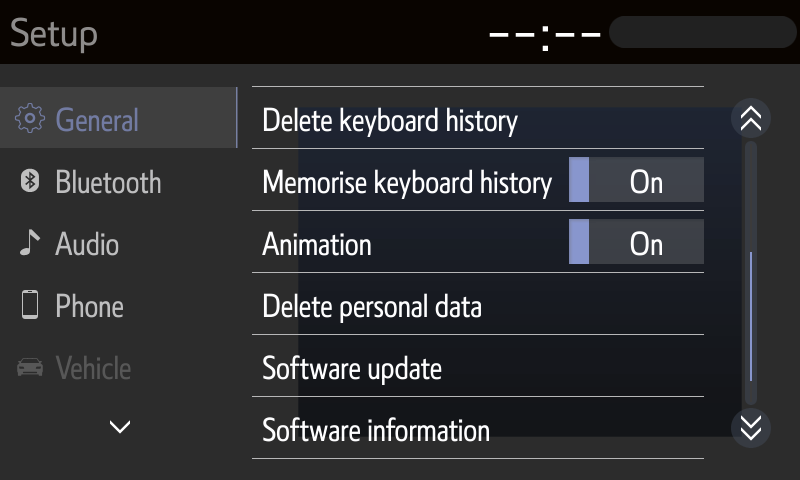touchPart: (241, 393, 710, 465), (248, 331, 708, 402), (250, 146, 707, 216), (247, 271, 710, 340), (251, 83, 708, 151), (248, 208, 708, 275), (1, 161, 175, 201), (5, 285, 145, 327), (1, 222, 129, 264), (724, 98, 776, 136), (726, 413, 775, 448), (97, 414, 152, 445)
untouchPart: (2, 85, 236, 154), (469, 13, 799, 57), (9, 347, 156, 387), (5, 12, 109, 57)
